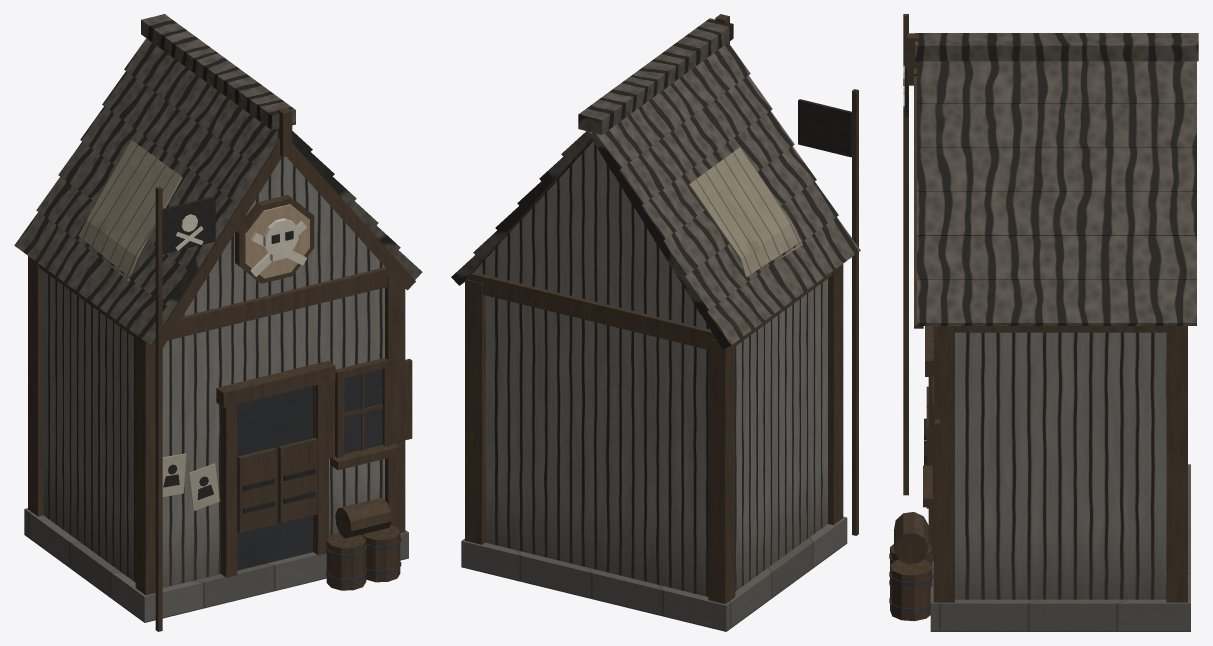
File: 상점_해적단퀘스트.fbx
The picture shows the model from 3 angles, left to right: view 1: azimuth 30°, elevation 25°; view 2: azimuth 150°, elevation 25°; view 3: azimuth 270°, elevation 25°; orthographic projection. The views are drawn at different scales.
Parts seen in each view (by area): view 1: 상점_해적단퀘스트; view 2: 상점_해적단퀘스트; view 3: 상점_해적단퀘스트.
Part boxes in pixels (x1=…): 상점_해적단퀘스트: x1=14, y1=14, x2=422, y2=631; 상점_해적단퀘스트: x1=451, y1=14, x2=860, y2=631; 상점_해적단퀘스트: x1=889, y1=14, x2=1198, y2=631.
Bounding box in the file's own units: 898 × 1495 × 797.
11 materials, 11 textured.
